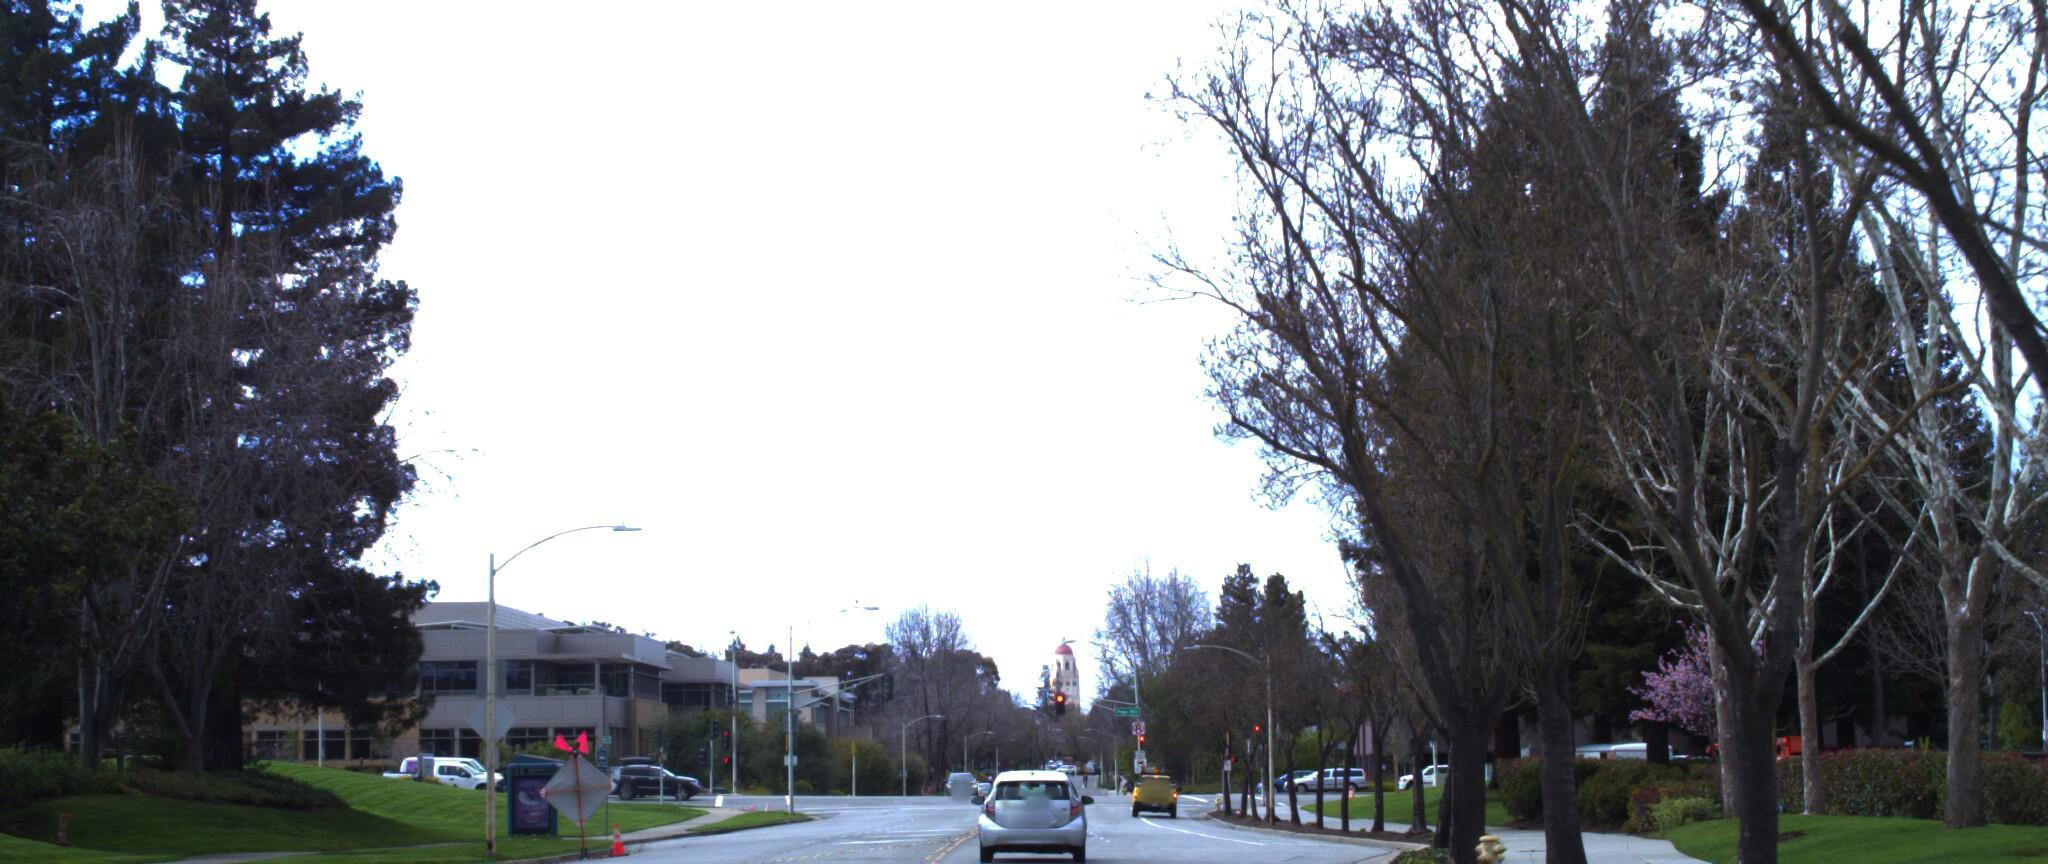car: (967, 754, 1088, 857)
